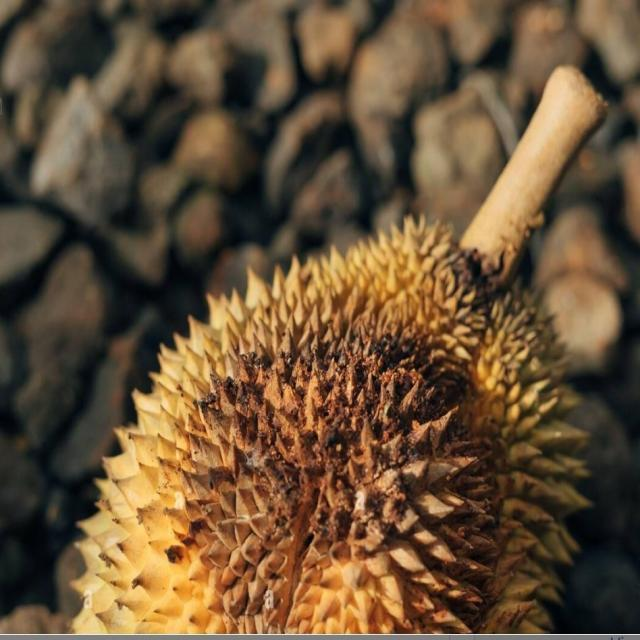defective: (68, 205, 590, 640)
